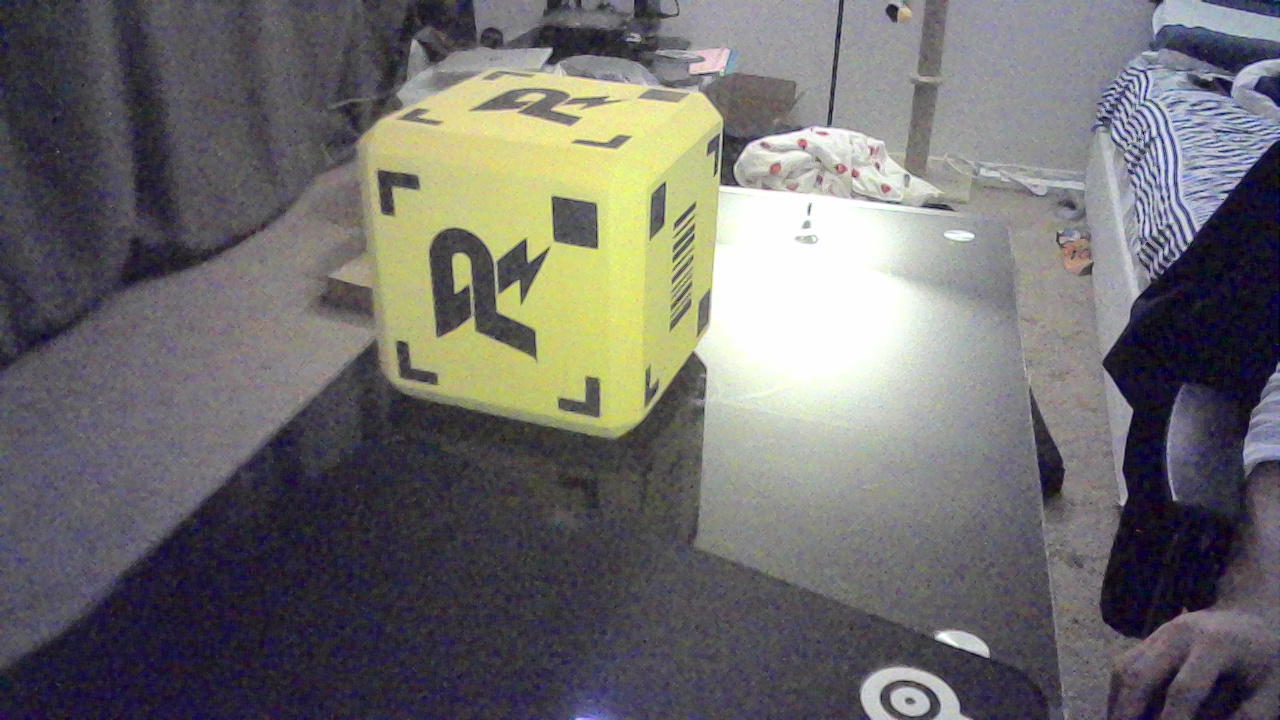Barcode: (665, 211, 708, 342)
R: (447, 234, 561, 367), (486, 86, 622, 138)
